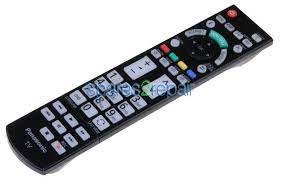remote control: (0, 0, 281, 179)
